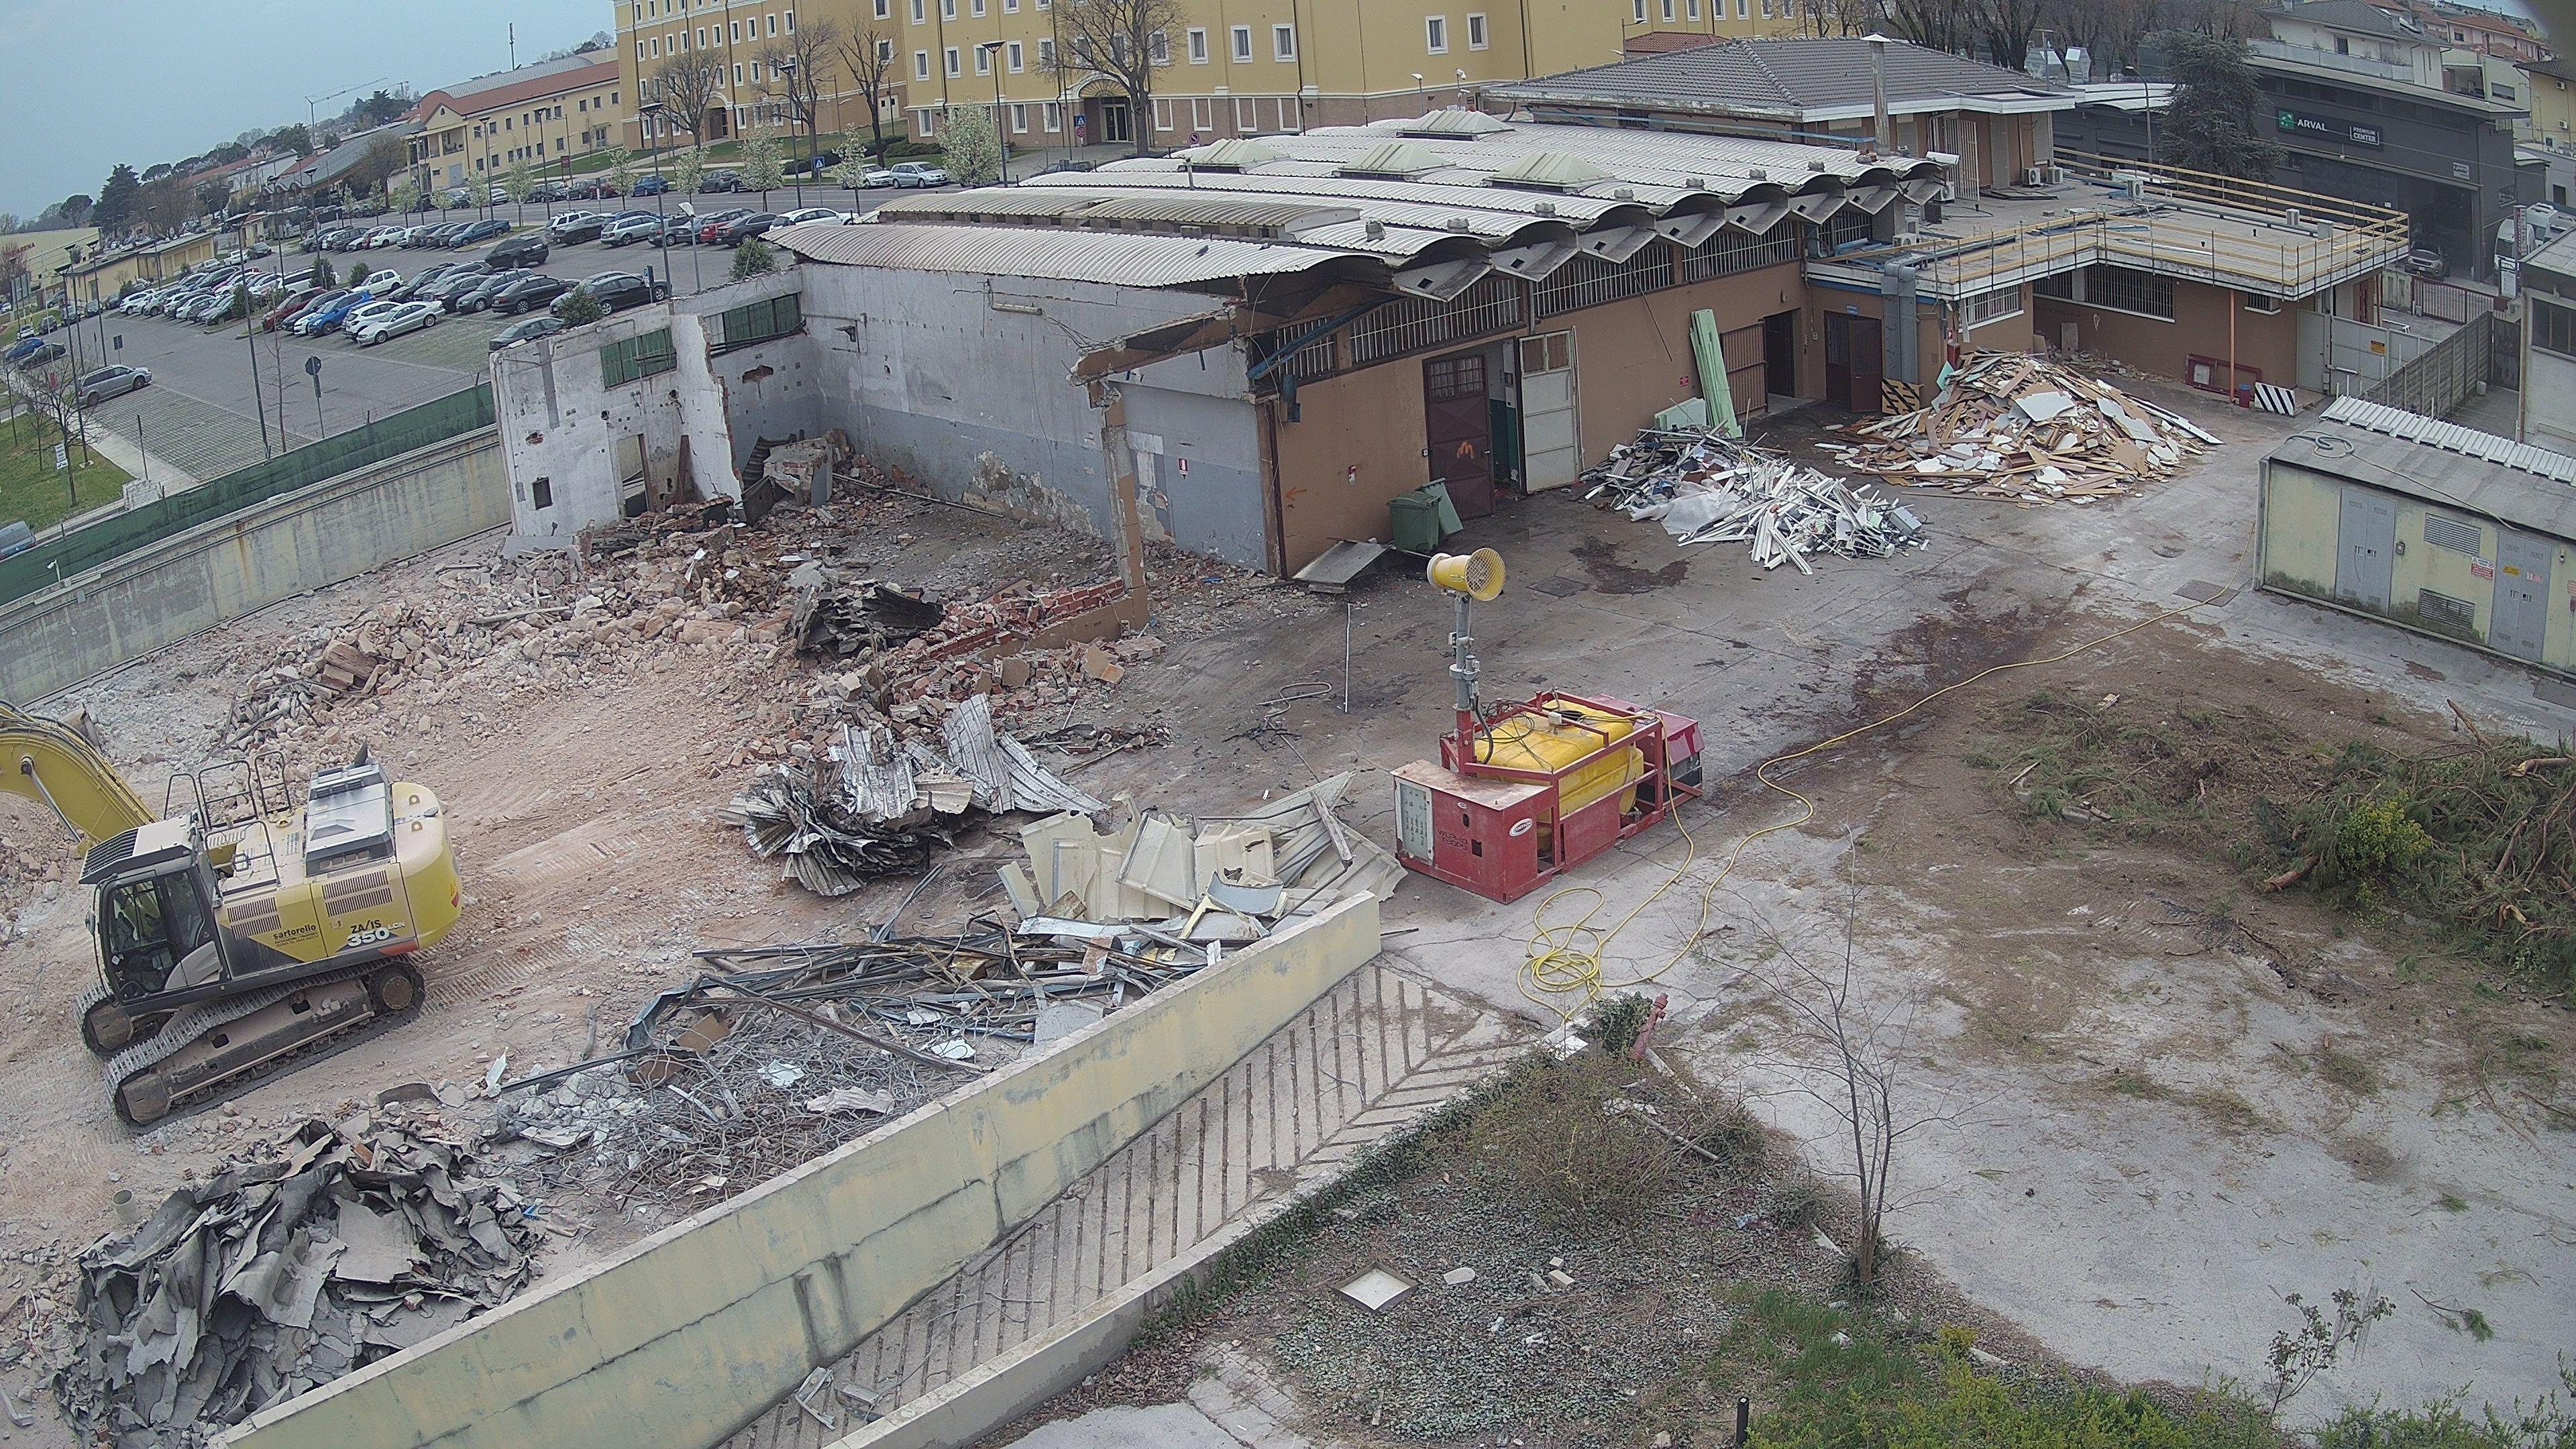Cars: (357, 301, 448, 347), (577, 274, 672, 315), (455, 267, 538, 313), (492, 274, 580, 313), (74, 364, 152, 405), (306, 290, 375, 334), (262, 287, 329, 331), (488, 317, 566, 354), (483, 234, 548, 271), (770, 207, 858, 232), (2404, 237, 2452, 281), (715, 212, 777, 246), (600, 214, 663, 246), (448, 218, 511, 248), (888, 161, 952, 189), (554, 214, 605, 244), (0, 520, 37, 561), (350, 269, 403, 297), (18, 343, 65, 370), (697, 168, 740, 193), (5, 338, 46, 363), (628, 173, 669, 198), (333, 226, 368, 251), (368, 226, 407, 248), (589, 175, 621, 198), (540, 180, 566, 202), (566, 180, 593, 200), (58, 306, 81, 326), (248, 242, 272, 260), (37, 315, 57, 334), (225, 249, 248, 265), (196, 258, 221, 272), (83, 299, 103, 317), (16, 326, 35, 340)
excavator: (0, 695, 471, 1129)
